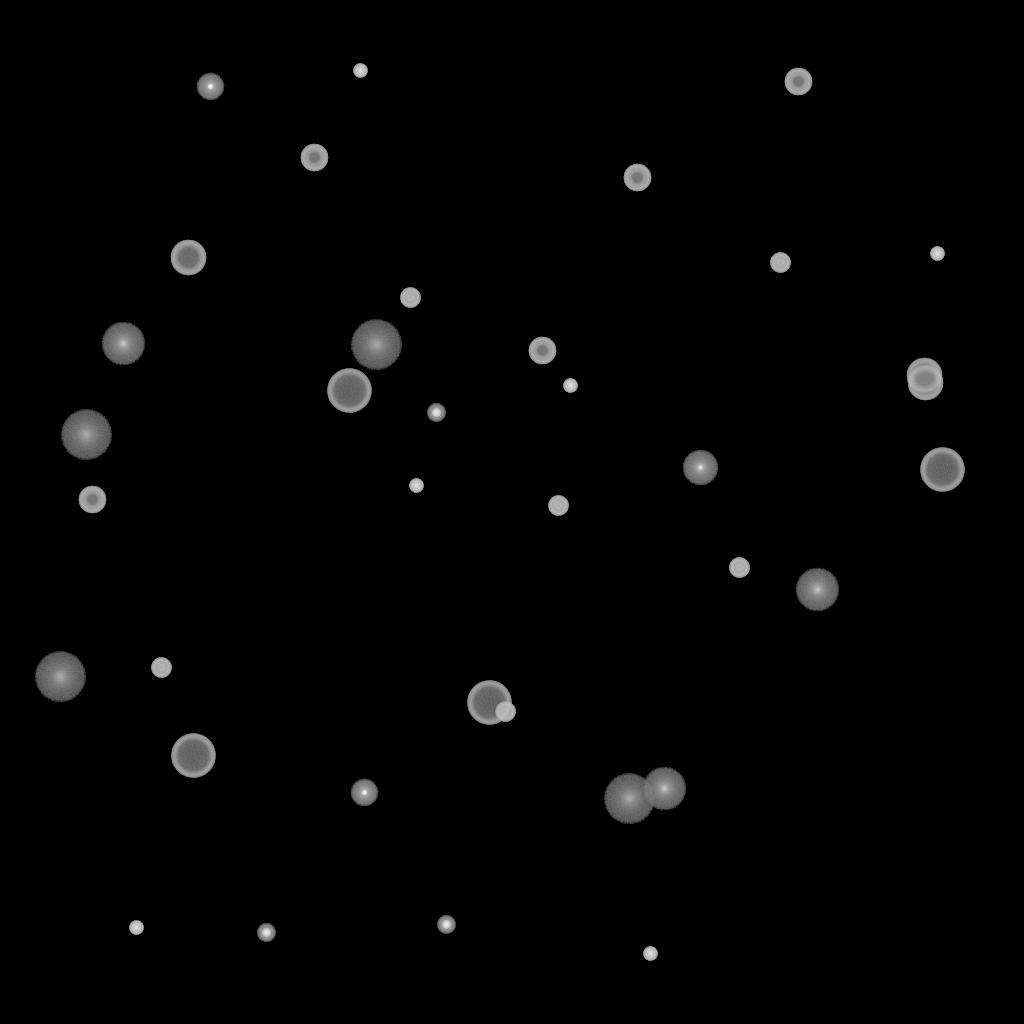depth:-10: (196, 73, 224, 101), (350, 779, 378, 807)
depth:-20: (437, 916, 455, 934), (257, 924, 275, 942), (427, 404, 445, 422)
depth:-30: (353, 64, 367, 78), (930, 247, 944, 261), (129, 921, 143, 935), (409, 479, 423, 493), (643, 947, 657, 961), (563, 379, 577, 393)
depth:-40: (770, 253, 790, 273), (548, 496, 568, 516), (151, 658, 171, 678), (495, 702, 515, 722), (400, 288, 420, 308), (729, 558, 749, 578)
depth:-50: (784, 68, 812, 96), (78, 486, 106, 514), (528, 337, 556, 365), (623, 164, 651, 192), (300, 144, 328, 172)
depth:-60: (907, 365, 943, 401), (170, 240, 206, 276), (906, 358, 942, 394)
depth:-70: (171, 734, 215, 778), (920, 448, 964, 492), (327, 369, 371, 413), (467, 681, 511, 725)
depth:0: (682, 450, 718, 486)
depth:10: (795, 568, 839, 612), (642, 767, 686, 811), (101, 322, 145, 366)
depth:20: (60, 410, 112, 460), (34, 652, 86, 702), (350, 320, 402, 370), (603, 774, 655, 824)
